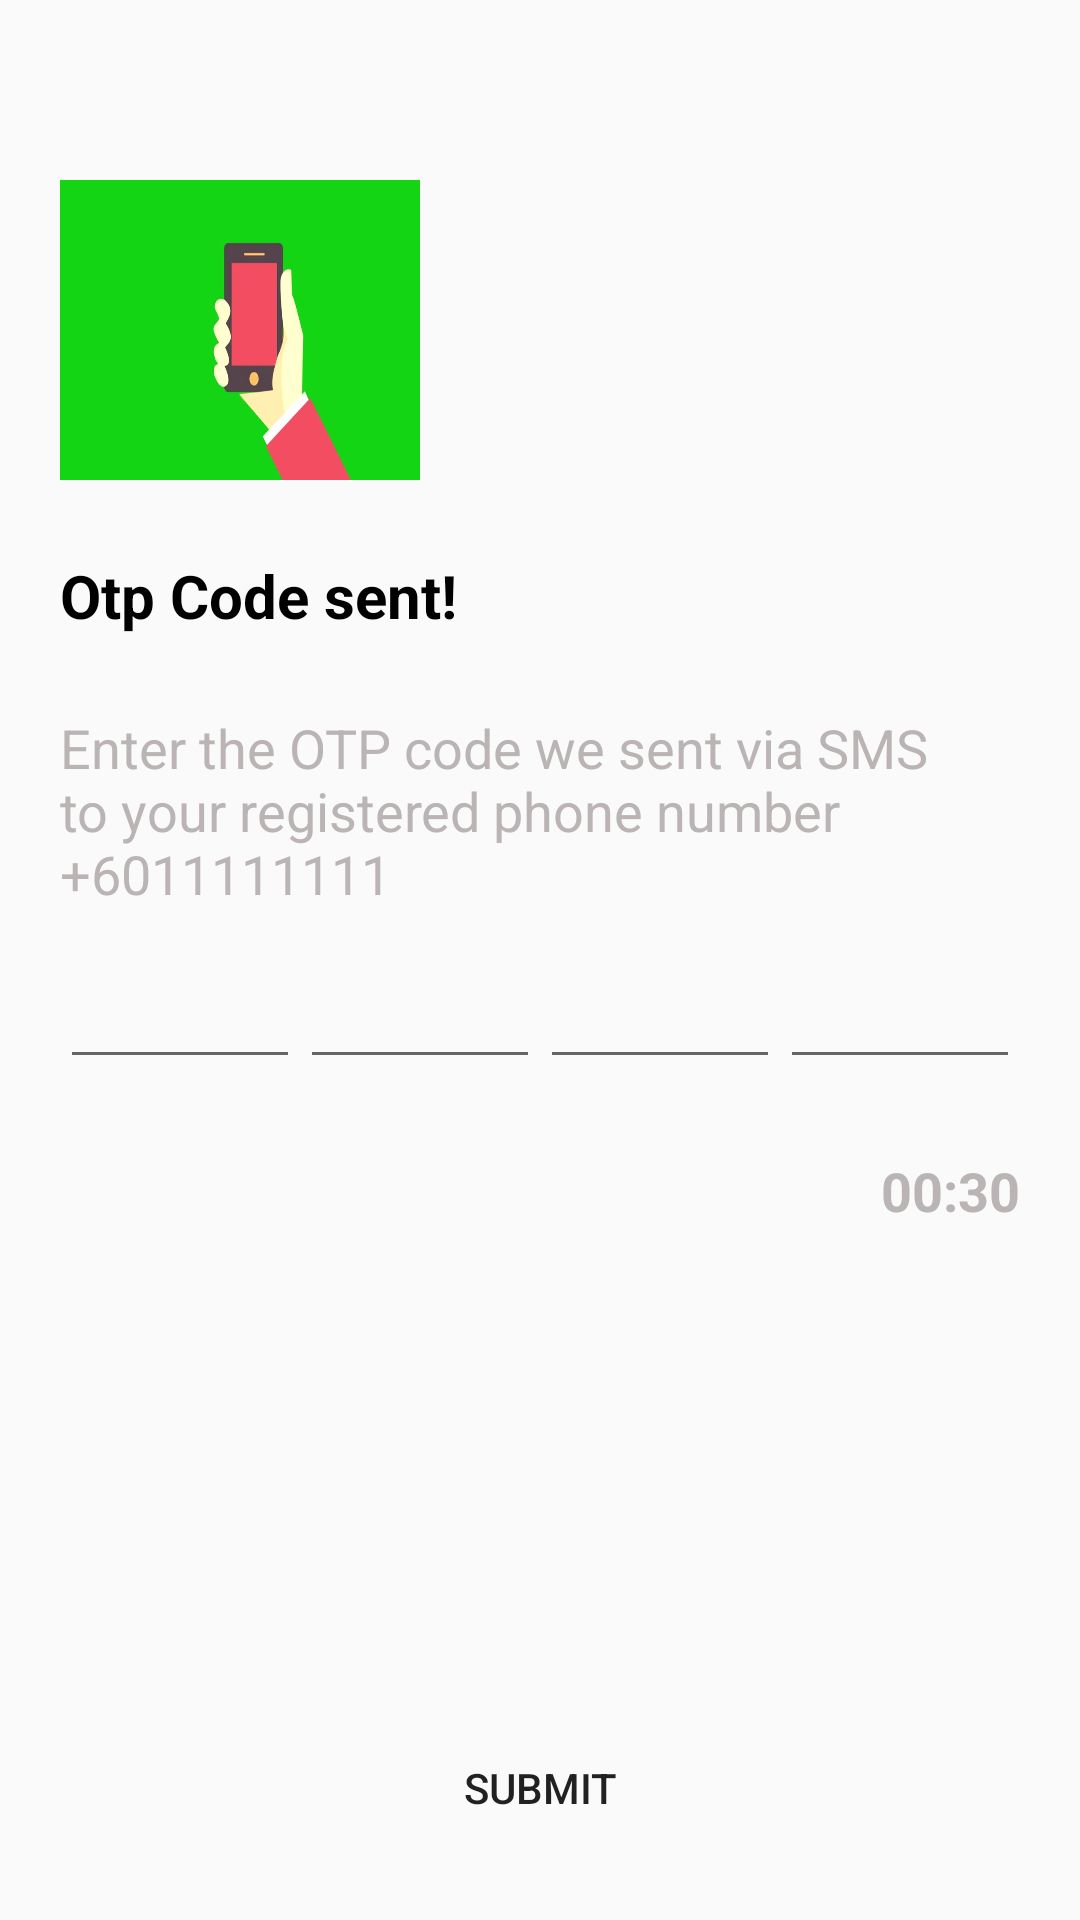

Where icons sit on this 1080w x 1920h app screen, as {"left": x1, "top": y1, "right": x2, "bottom": y2}:
mobile pic: {"left": 60, "top": 180, "right": 420, "bottom": 480}
